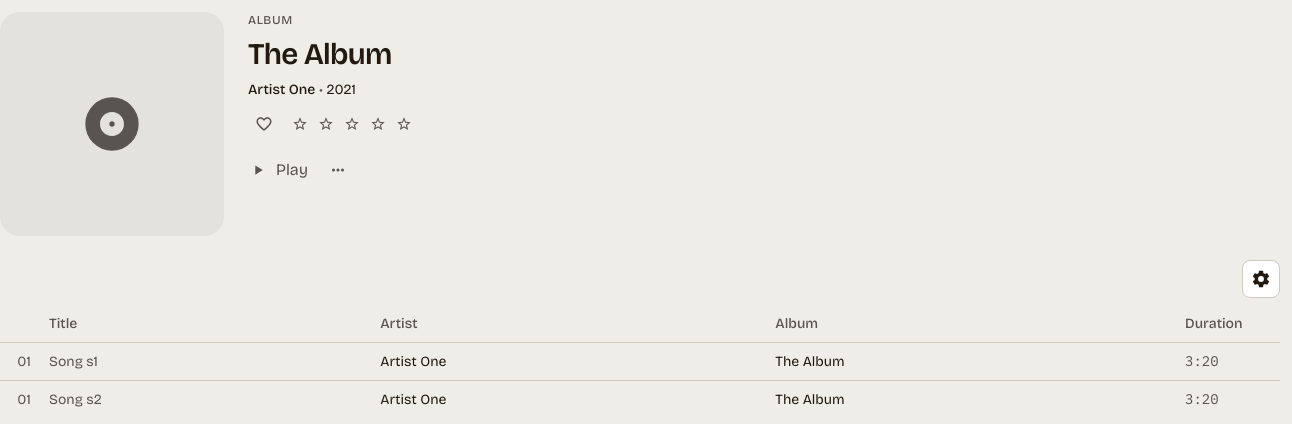
Test: Album detail (react-query, P5) › patches a favorite in place and invalidates the albums lists
Expected: the text "The Album" is shown, [248,36,392,72]
Step 1. Click the button named "Add favorite" → {"x": 264, "y": 124}, box [248,108,280,140]
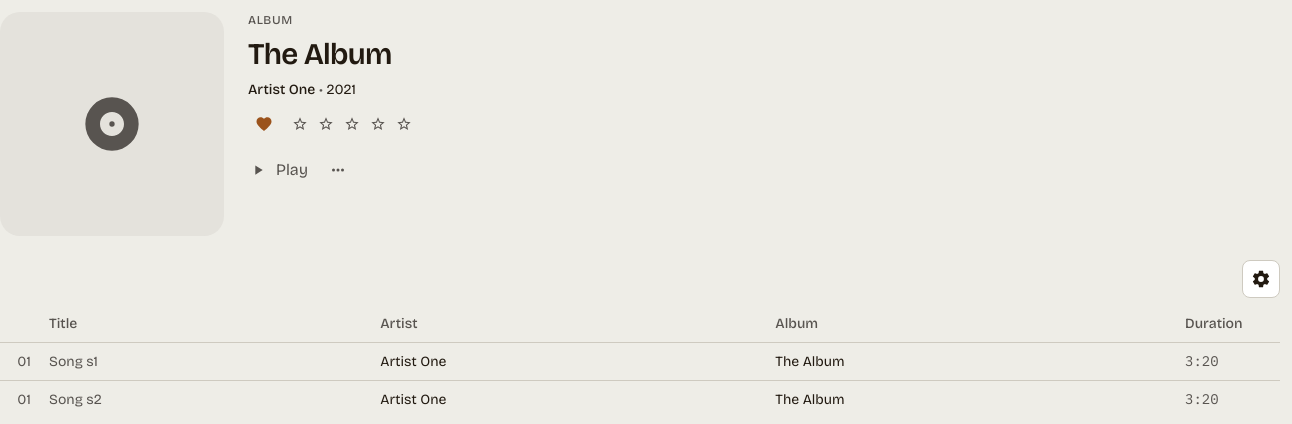
Now the button named "Remove favorite" is shown, box [248,108,280,140]
